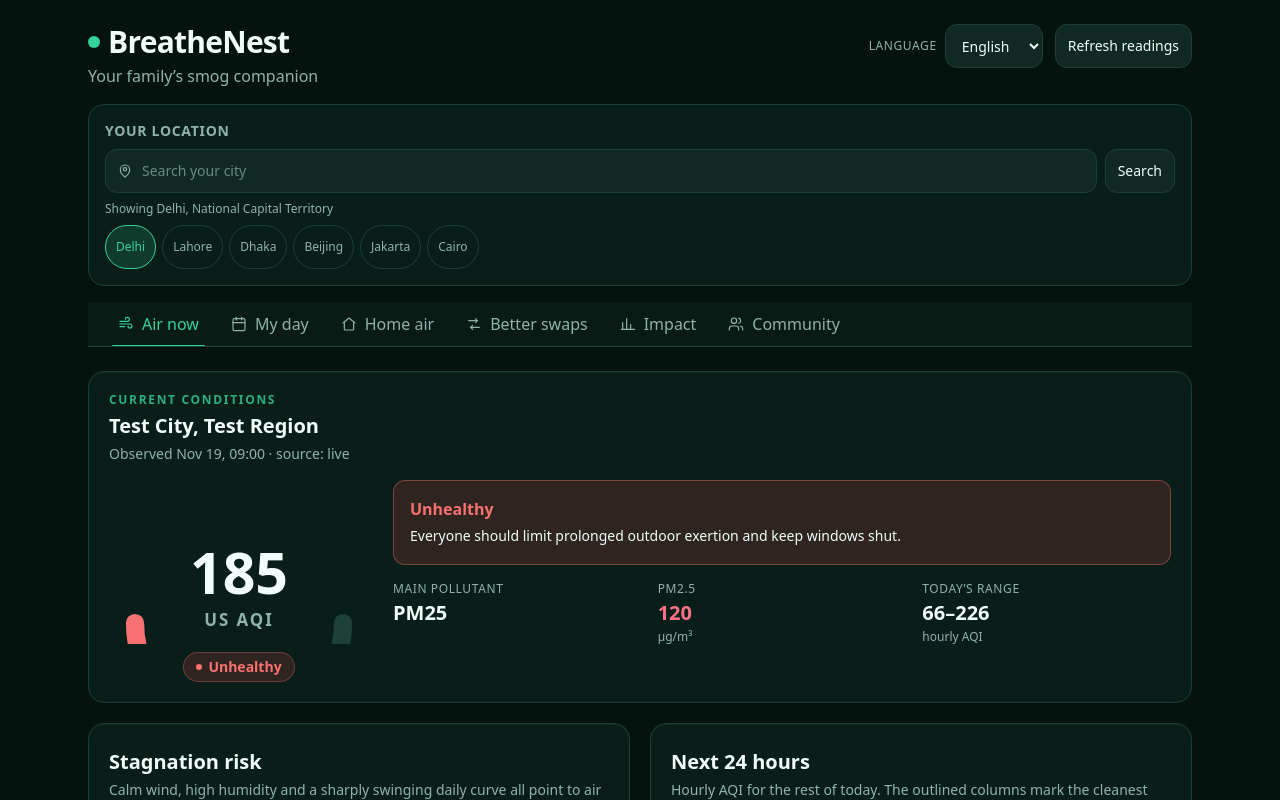
Test: routine tab — GenAI route › uses the generated plan when the gateway answers
Click the tab "My day" at (270, 324), box [217,302,323,346]
(page scrolled)
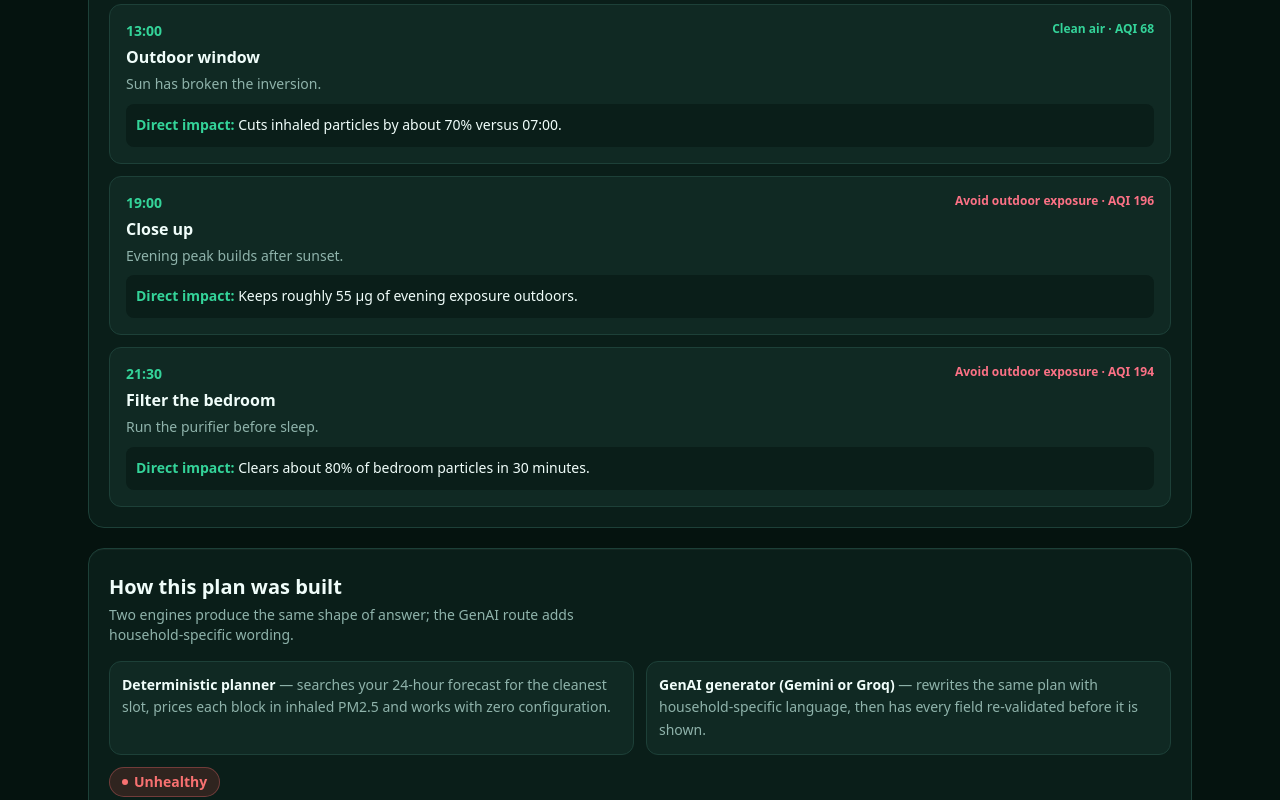
Now the heading "Filter the bedroom" is shown, box [126,389,276,411]
